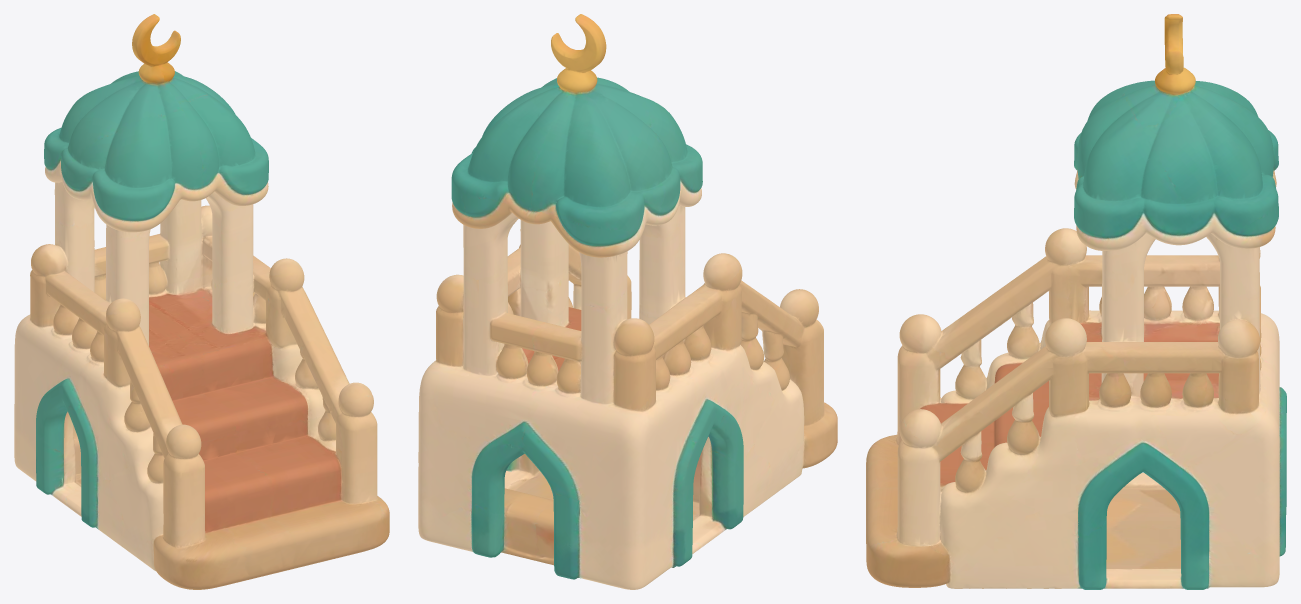
Rendered from minbar-variant-06-scalloped-teal-canopy.glb.
The picture shows the model from 3 angles, left to right: view 1: azimuth 30°, elevation 25°; view 2: azimuth 150°, elevation 25°; view 3: azimuth 270°, elevation 25°; orthographic projection. The views are drawn at different scales.
Parts seen in each view (by area): view 1: mesh_node; view 2: mesh_node; view 3: mesh_node.
Boxes of the visible parts, box(x1,y1,x2,y2) form: mesh_node: box(14, 14, 389, 589); mesh_node: box(418, 14, 837, 589); mesh_node: box(866, 14, 1286, 589).
Size of the model in its own units: 0.9483 by 1.9 by 1.4.
Materials: 1 (1 with a texture image).
